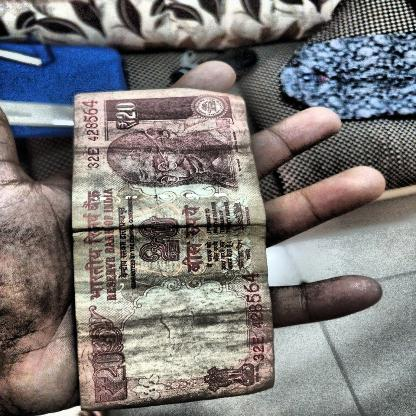Rs20: (90, 349, 132, 404), (137, 216, 181, 264), (112, 99, 145, 132)
